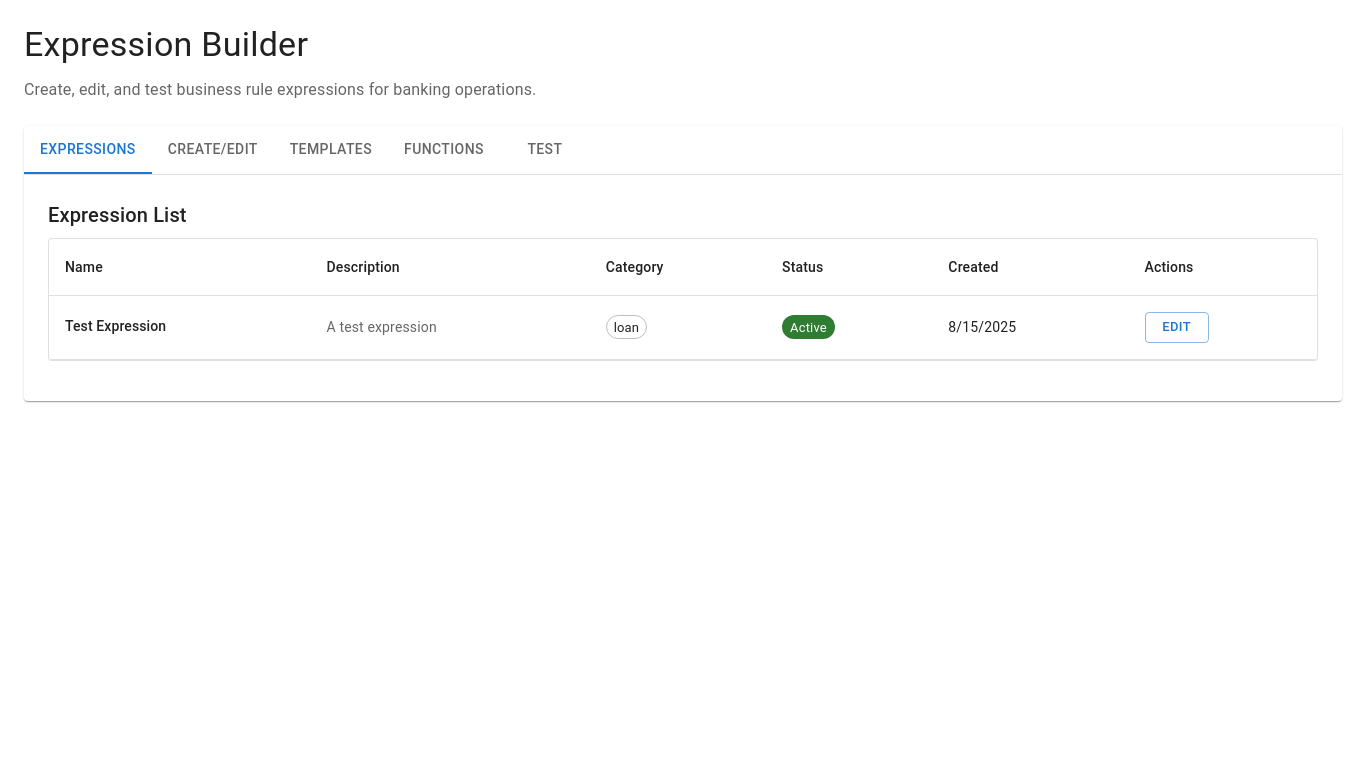
Test: Expression Builder Integration Tests › Tab Navigation › should navigate between tabs correctly
Check: the heading "Expression List" is shown, box [48,203,187,227]
# Click Templates tab
Click the tab "Templates": coordinates (331, 150) [274,126,388,174]
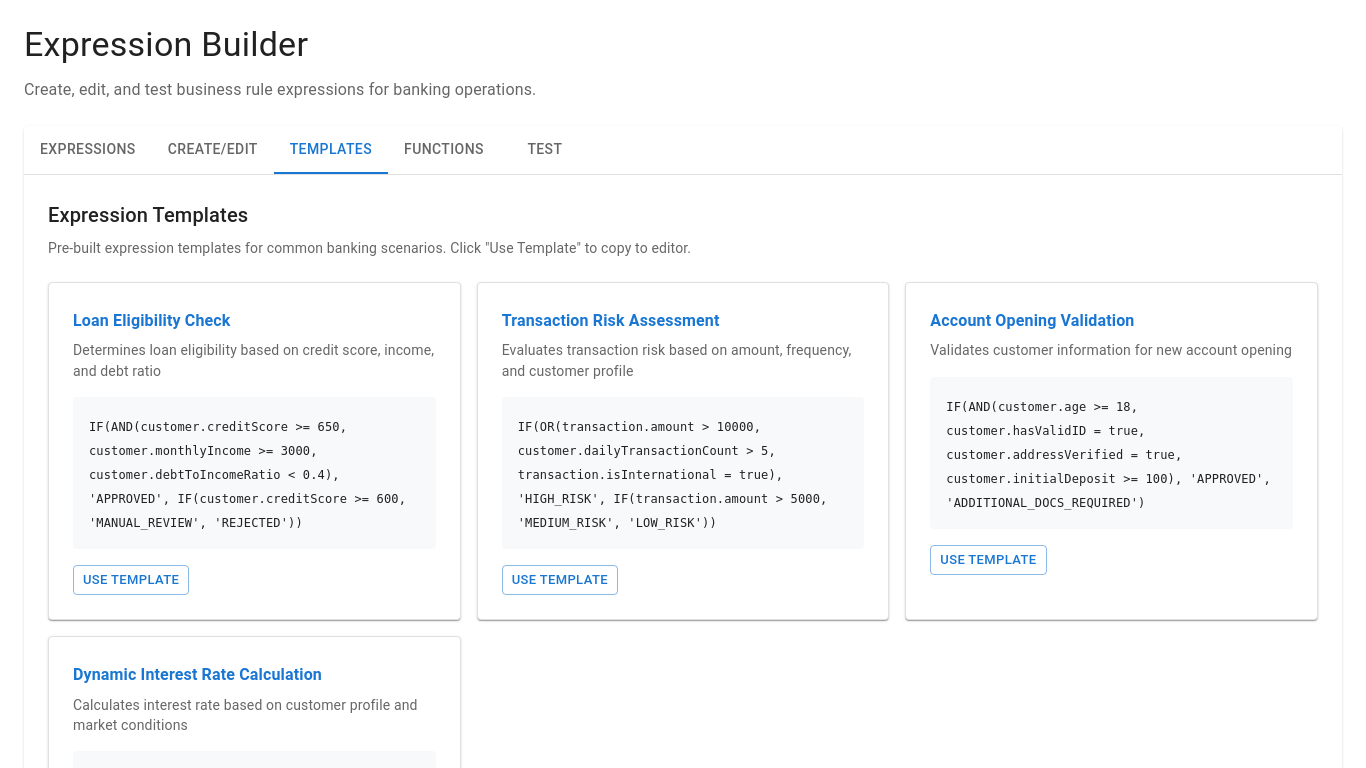
Check: the heading "Expression Templates" is shown, box [48,203,248,227]
# Click Functions tab
Click the tab "Functions": coordinates (444, 150) [388,126,500,174]
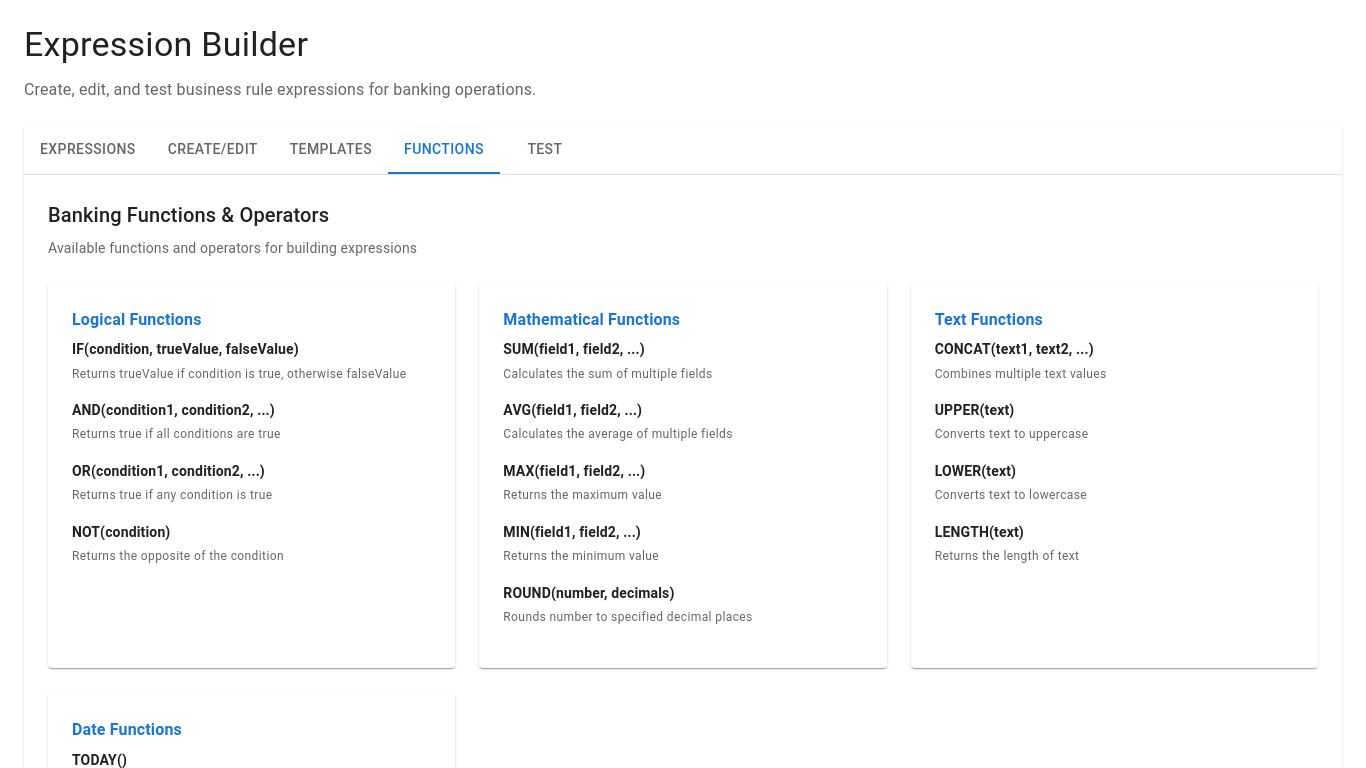
Check: the heading "Banking Functions & Operators" is shown, box [48,203,329,227]
# Click Test tab
Click the tab "Test": coordinates (545, 150) [500,126,590,174]
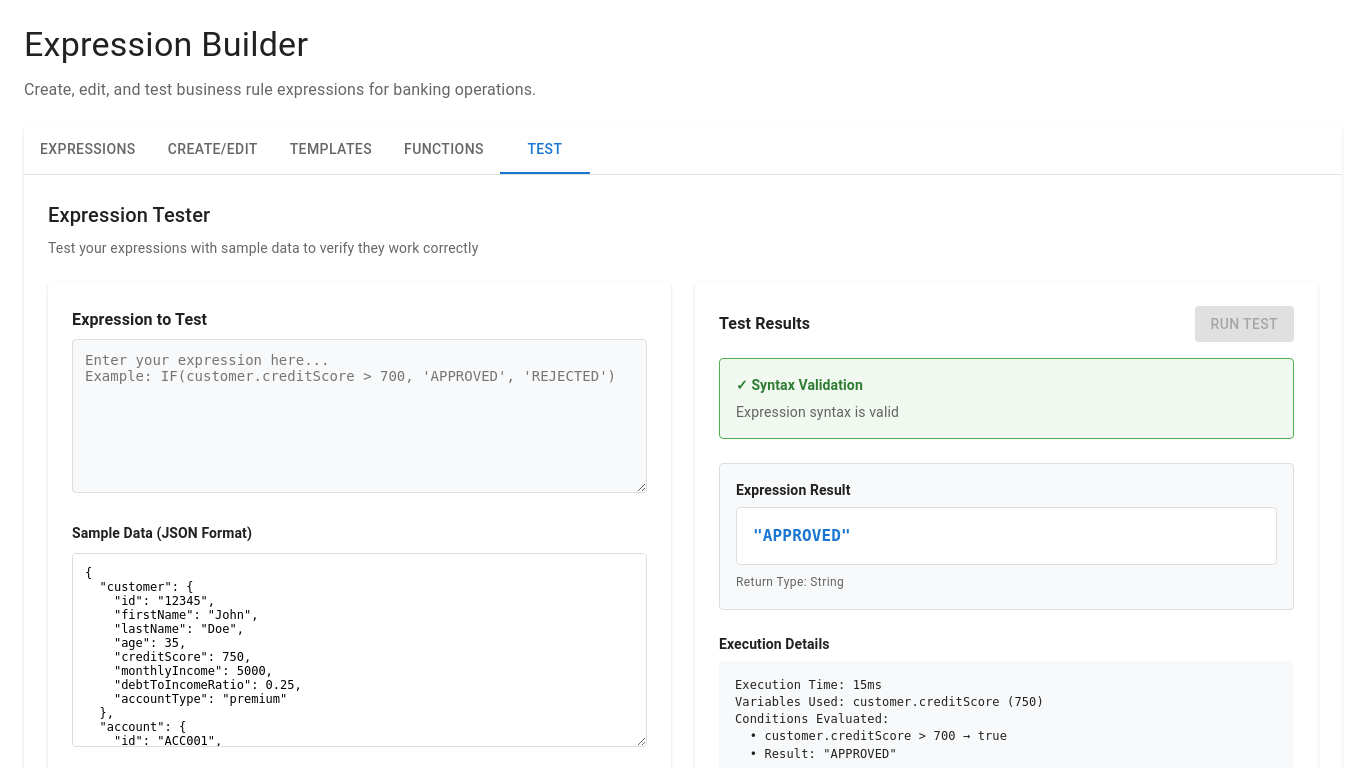
Check: the heading "Expression Tester" is shown, box [48,203,210,227]
